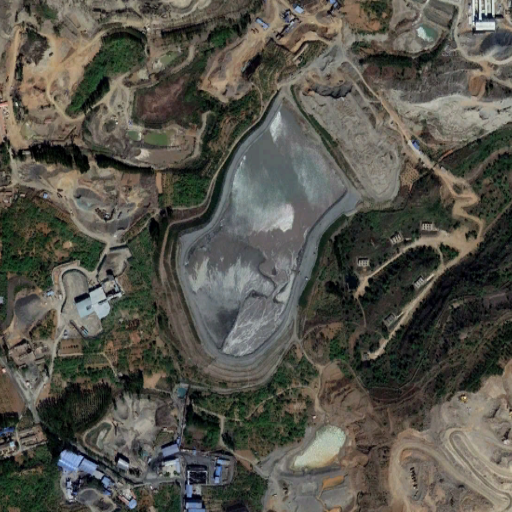tp: (162, 97, 350, 379)
